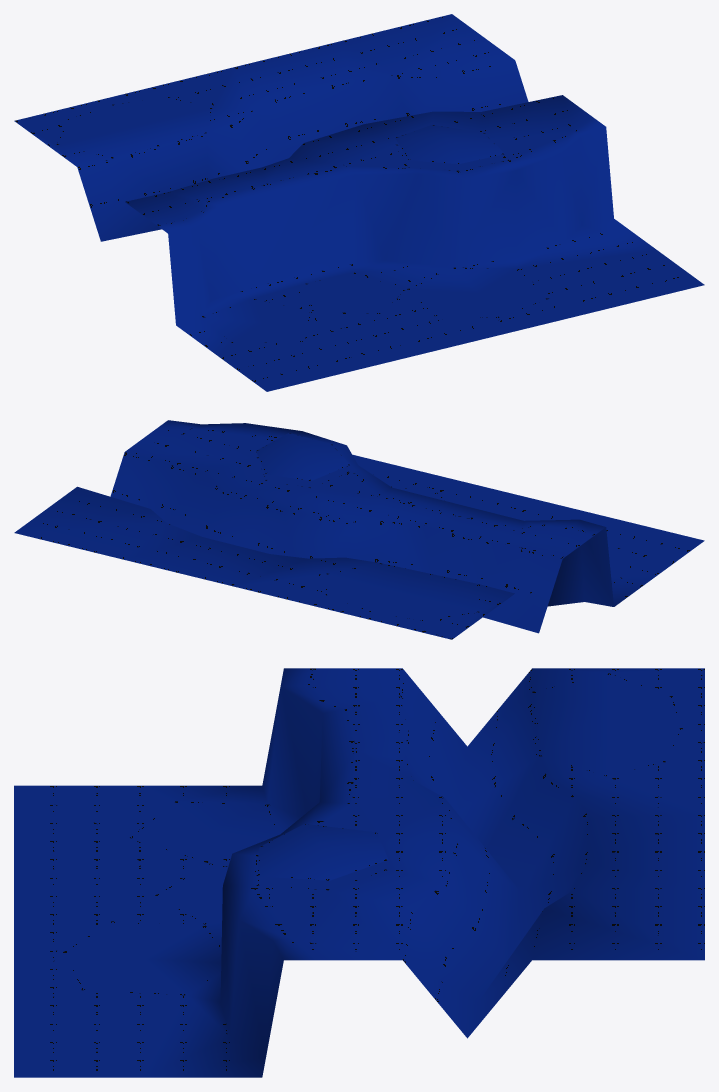
The model's file is GRD_S_C1_R2_1.fbx.
3 renders of one model, top to bottom at view 1: azimuth 30°, elevation 25°; view 2: azimuth 150°, elevation 25°; view 3: azimuth 270°, elevation 25°, orthographic. The views are drawn at different scales.
Parts seen in each view (by area): view 1: material_00022000, material_00042000, material_C0052000, material_C0032000, material_C0012000, material_C0062000; view 2: material_00022000, material_C0052000, material_00042000, material_C0032000, material_C0012000, material_C0062000; view 3: material_00022000, material_C0052000, material_C0032000, material_00042000, material_C0012000, material_C0062000.
Part boxes in pixels (x1,y1,x2,y2): material_00022000: (14,14,704,391); material_00042000: (156,118,613,325); material_C0052000: (77,60,528,241); material_C0032000: (56,97,549,343); material_C0012000: (395,124,504,163); material_C0062000: (395,144,504,171); material_00022000: (14,429,704,639); material_C0052000: (110,452,562,633); material_00042000: (156,420,613,606); material_C0032000: (325,486,622,620); material_C0012000: (256,433,350,480); material_C0062000: (256,457,349,488); material_00022000: (14,668,704,1077); material_C0052000: (400,668,589,1038); material_C0032000: (62,673,683,995); material_00042000: (220,668,355,1074); material_C0012000: (256,824,388,880); material_C0062000: (256,861,388,890).
Bounding box in the file's own units: 12800 × 2800 × 12800.
